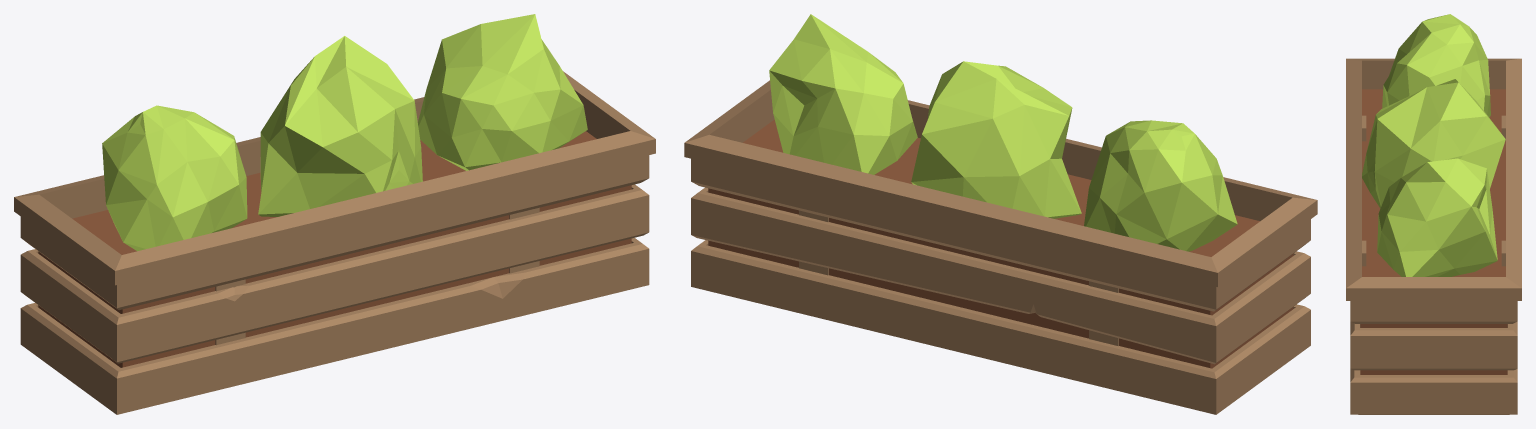
The model's file is planter-bushes.glb.
3 views of the same model, side by side, from view 1: azimuth 30°, elevation 25°; view 2: azimuth 150°, elevation 25°; view 3: azimuth 270°, elevation 25° (orthographic). The views are drawn at different scales.
Parts seen in each view (by area): view 1: PlanterBushes; view 2: PlanterBushes; view 3: PlanterBushes.
Boxes of the visible parts, <box> form: PlanterBushes: <box>14,14,655,414</box>; PlanterBushes: <box>684,14,1317,414</box>; PlanterBushes: <box>1346,14,1521,414</box>.
Size of the model in its own units: 2.37 by 1.12 by 0.7672.
1 material, 1 textured.
